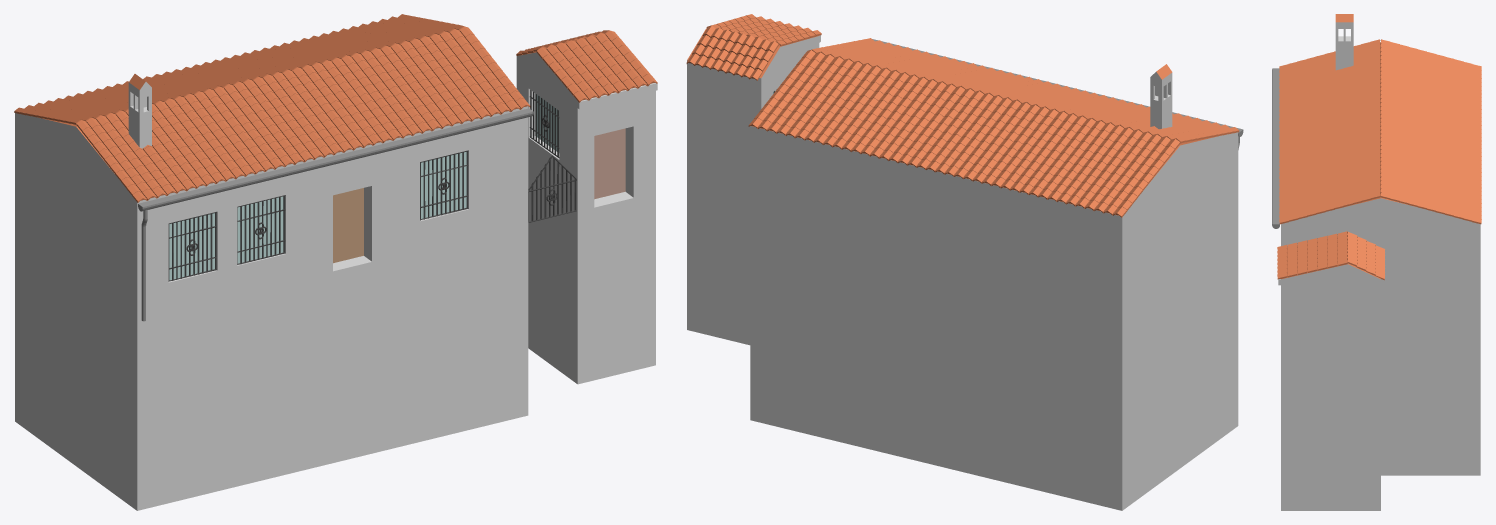
Rendered from 12_Casa_Benarraba_Jesus_Jimenez.fbx.
3 renders of one model, left to right at view 1: azimuth 30°, elevation 25°; view 2: azimuth 150°, elevation 25°; view 3: azimuth 270°, elevation 25°, orthographic. The views are drawn at different scales.
Visible parts, largest first — view 1: Fachada.003, Tejas_2.005, Casita, varilla horizontal ext.005, Canaleta Vertical, Cube.060; view 2: Fachada.003, Tejas_2.005, Casita, Cube.060; view 3: Tejas_2.005, Fachada.003, Casita, Canaleta Vertical, Cube.060.
Boxes of the visible parts, <box> form: Fachada.003: <box>15,106,528,510</box>; Tejas_2.005: <box>14,14,657,202</box>; Casita: <box>516,52,657,384</box>; varilla horizontal ext.005: <box>168,90,576,281</box>; Canaleta Vertical: <box>138,108,533,321</box>; Cube.060: <box>128,74,151,148</box>; Fachada.003: <box>750,122,1238,510</box>; Tejas_2.005: <box>686,14,1239,217</box>; Casita: <box>687,28,820,345</box>; Cube.060: <box>1150,64,1172,129</box>; Tejas_2.005: <box>1277,39,1481,280</box>; Fachada.003: <box>1281,42,1480,475</box>; Casita: <box>1278,235,1380,510</box>; Canaleta Vertical: <box>1272,68,1279,228</box>; Cube.060: <box>1335,14,1353,70</box>.
Bounding box in the file's own units: 1949 × 1417 × 835.
